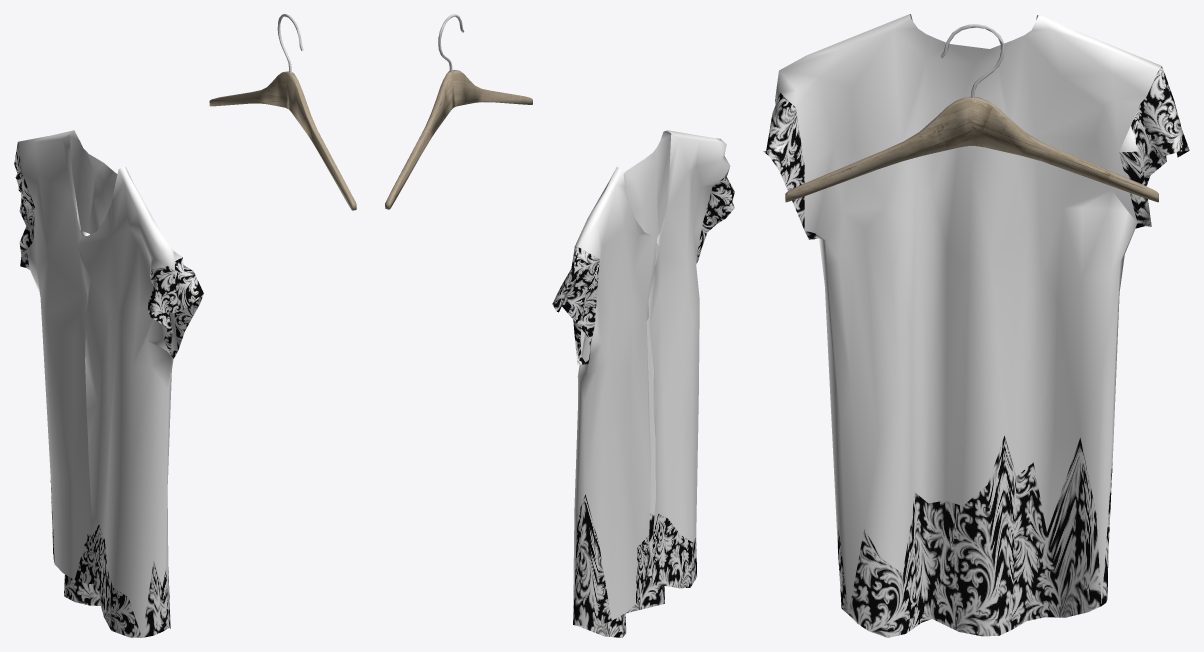
The model's file is rod-blouse05.glb.
3 renders of one model, left to right at view 1: azimuth 30°, elevation 25°; view 2: azimuth 150°, elevation 25°; view 3: azimuth 270°, elevation 25°, orthographic. The views are drawn at different scales.
Visible parts, largest first — view 1: blouse05.001, Hangers_for_clothes101.001; view 2: blouse05.001, Hangers_for_clothes101.001; view 3: blouse05.001, Hangers_for_clothes101.001.
Part boxes in pixels (x1,y1,x2,y2): blouse05.001: (14,130,203,637); Hangers_for_clothes101.001: (209,14,356,210); blouse05.001: (552,130,734,637); Hangers_for_clothes101.001: (385,14,532,209); blouse05.001: (763,14,1189,637); Hangers_for_clothes101.001: (785,24,1158,202).
Bounding box in the file's own units: 0.3791 × 0.9337 × 0.4988.
Materials: 3 (2 with a texture image).
